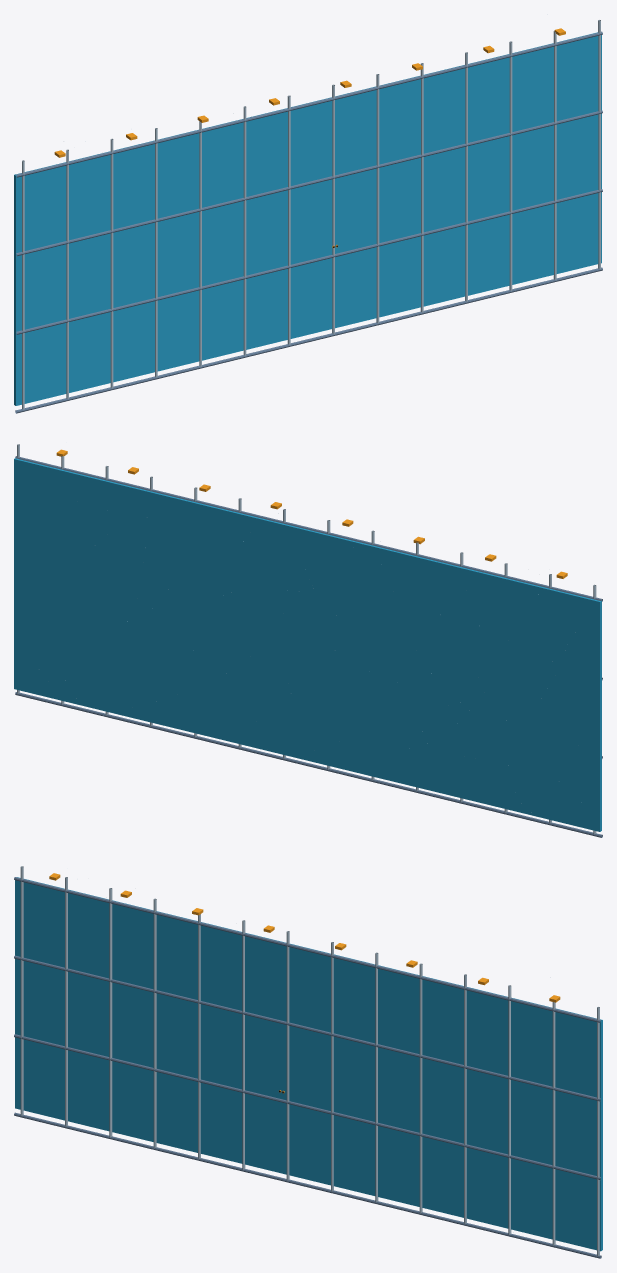
File: 01_L89_SolarStormPanoramicObservatory.fbx
3 renders of one model, top to bottom at view 1: azimuth 30°, elevation 25°; view 2: azimuth 150°, elevation 25°; view 3: azimuth 330°, elevation 25°, orthographic.
Visible parts, largest first — view 1: L87_SolarStormPanoramicObservatory_Part_0000, L87_SolarStormPanoramicObservatory_Part_0001, L87_SolarStormPanoramicObservatory_Part_0002, L87_SolarStormPanoramicObservatory_Part_0008; view 2: L87_SolarStormPanoramicObservatory_Part_0000, L87_SolarStormPanoramicObservatory_Part_0002, L87_SolarStormPanoramicObservatory_Part_0001, L87_SolarStormPanoramicObservatory_Part_0008; view 3: L87_SolarStormPanoramicObservatory_Part_0000, L87_SolarStormPanoramicObservatory_Part_0001, L87_SolarStormPanoramicObservatory_Part_0002, L87_SolarStormPanoramicObservatory_Part_0008.
Boxes of the visible parts, box(x1,y1,x2,y2) form: L87_SolarStormPanoramicObservatory_Part_0000: box(14, 32, 601, 405); L87_SolarStormPanoramicObservatory_Part_0001: box(22, 20, 600, 409); L87_SolarStormPanoramicObservatory_Part_0002: box(15, 31, 602, 413); L87_SolarStormPanoramicObservatory_Part_0008: box(54, 28, 565, 157); L87_SolarStormPanoramicObservatory_Part_0000: box(14, 458, 601, 831); L87_SolarStormPanoramicObservatory_Part_0002: box(15, 456, 602, 837); L87_SolarStormPanoramicObservatory_Part_0001: box(17, 444, 596, 834); L87_SolarStormPanoramicObservatory_Part_0008: box(56, 449, 567, 578); L87_SolarStormPanoramicObservatory_Part_0000: box(15, 877, 602, 1251); L87_SolarStormPanoramicObservatory_Part_0001: box(20, 866, 599, 1256); L87_SolarStormPanoramicObservatory_Part_0002: box(14, 877, 601, 1258); L87_SolarStormPanoramicObservatory_Part_0008: box(49, 873, 560, 1002).
Size of the model in its own units: 3200 by 1394 by 273.
